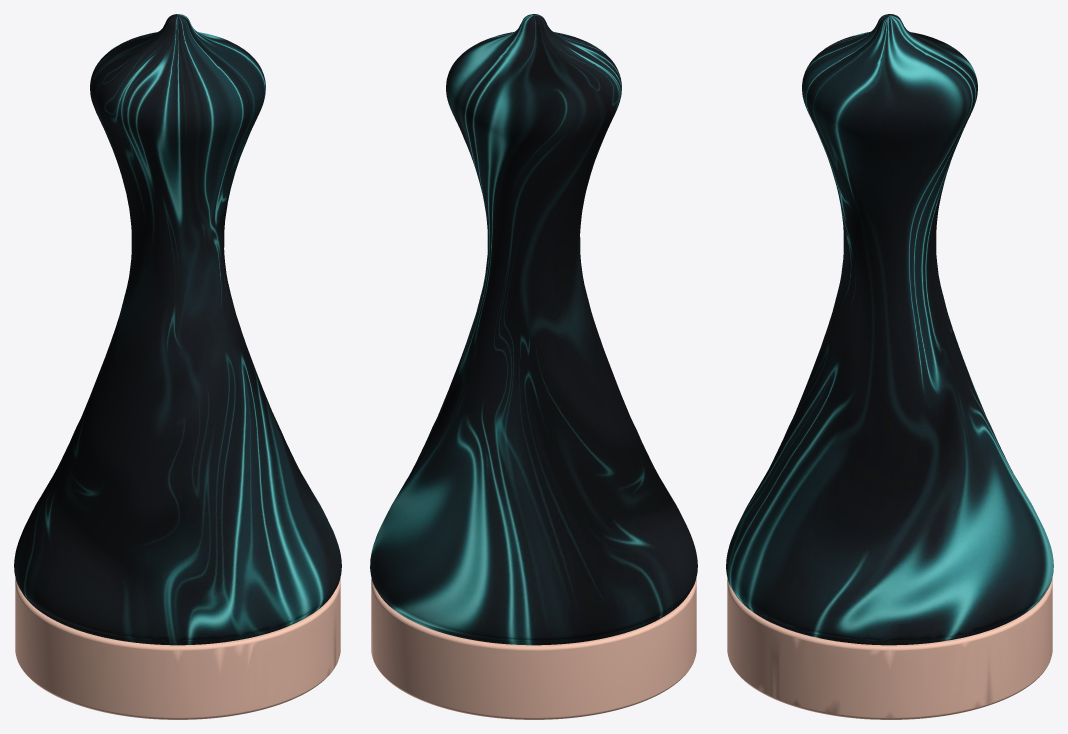
File: queen-black-hd.glb
The picture shows the model from 3 angles, left to right: view 1: azimuth 30°, elevation 25°; view 2: azimuth 150°, elevation 25°; view 3: azimuth 270°, elevation 25°; orthographic projection.
Visible parts, largest first — view 1: dama_cerna; view 2: dama_cerna; view 3: dama_cerna.
Part boxes in pixels (box(x1,y1,x2,y2)): dama_cerna: box(14, 14, 341, 719); dama_cerna: box(370, 14, 697, 719); dama_cerna: box(726, 14, 1053, 719).
Bounding box in the file's own units: 0.6757 × 1.45 × 0.6757.
2 materials, 1 textured.
